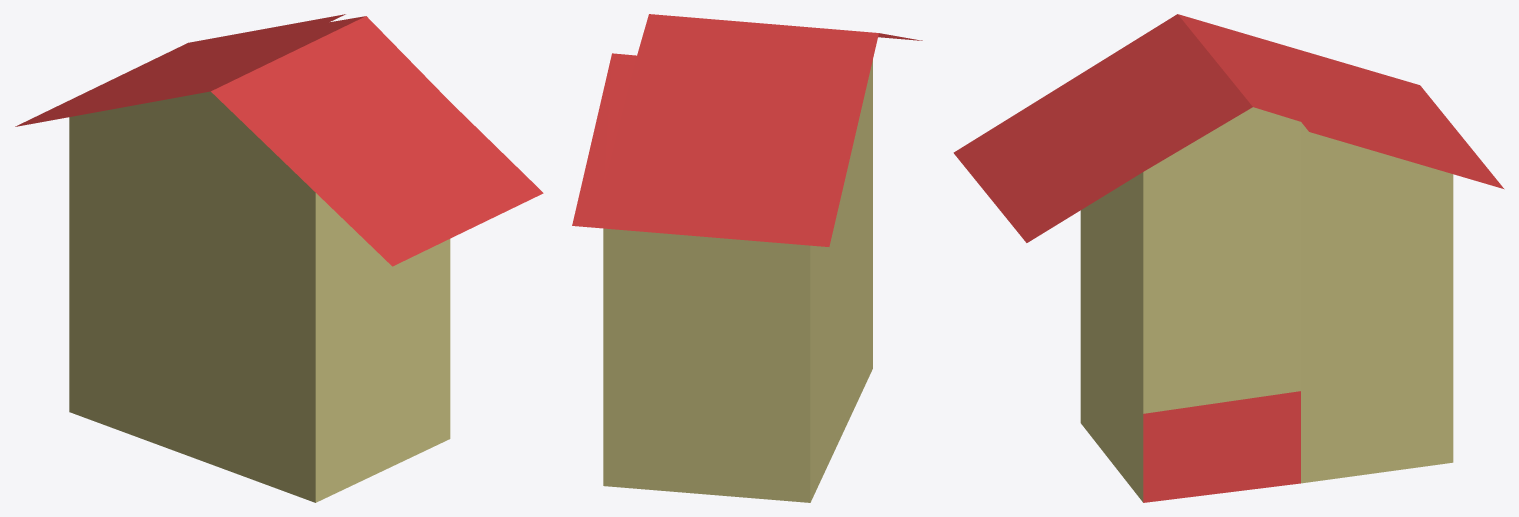
3 views of the same model, side by side, from view 1: azimuth 30°, elevation 25°; view 2: azimuth 150°, elevation 25°; view 3: azimuth 270°, elevation 25° (orthographic).
Bounding box in the file's own units: 6.55 × 9.65 × 7.39.
